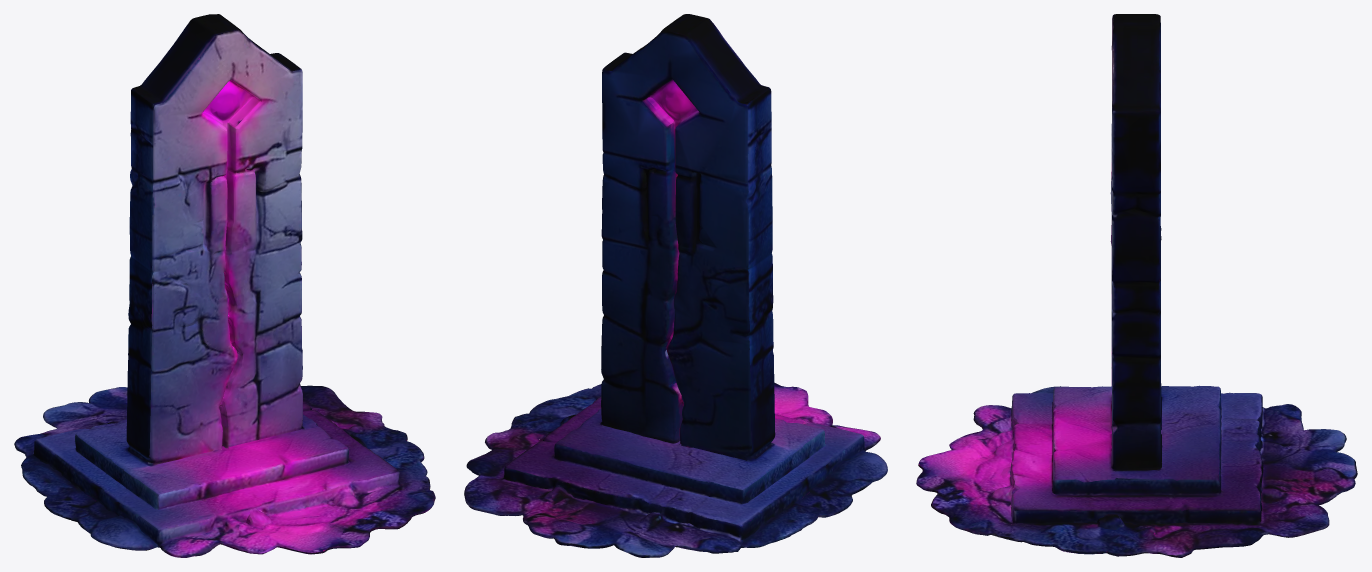
Rendered from weathered-monolith-pillar-generated-2026-05-17T19-16-10-569Z.medium.glb.
The picture shows the model from 3 angles, left to right: view 1: azimuth 30°, elevation 25°; view 2: azimuth 150°, elevation 25°; view 3: azimuth 270°, elevation 25°; orthographic projection.
Parts seen in each view (by area): view 1: temp_mesh.ply; view 2: temp_mesh.ply; view 3: temp_mesh.ply.
Boxes of the visible parts, x1,y1,x2,y2 form: temp_mesh.ply: (14, 14, 435, 557); temp_mesh.ply: (464, 14, 887, 557); temp_mesh.ply: (916, 14, 1357, 557).
Bounding box in the file's own units: 1.58 × 1.97 × 1.75.
Materials: 1 (1 with a texture image).
